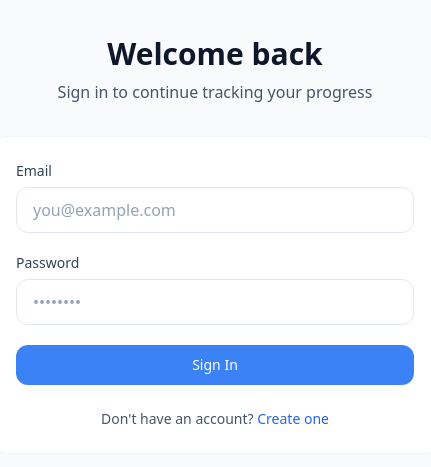
Test case: Login Page › shows validation errors for empty fields
Click the button "Sign In": (215, 365) [16, 345, 414, 385]
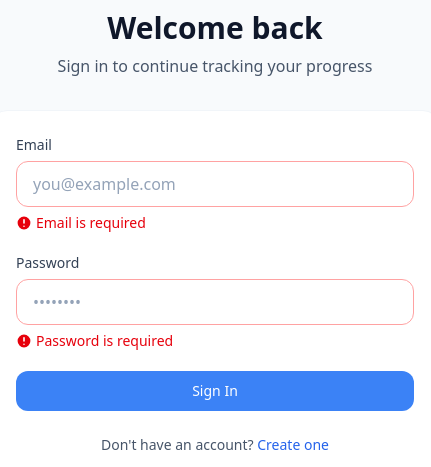
Now the text "Email is required" is shown, box [16, 213, 146, 232]
Now the text "Password is required" is shown, box [16, 331, 173, 350]
